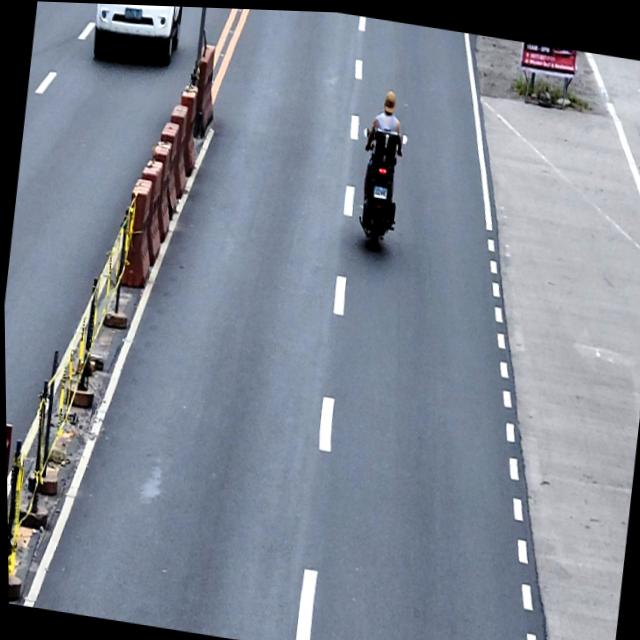Car: (89, 3, 185, 69)
License-Plate: (124, 5, 143, 21), (372, 182, 386, 196)
Motorcycle: (350, 120, 408, 252)
